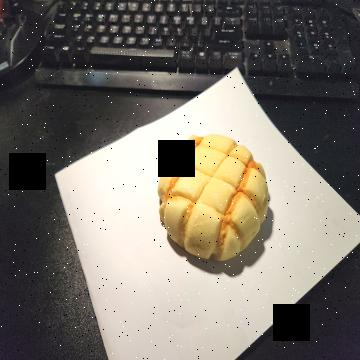melon_bread: (157, 132, 271, 262)
